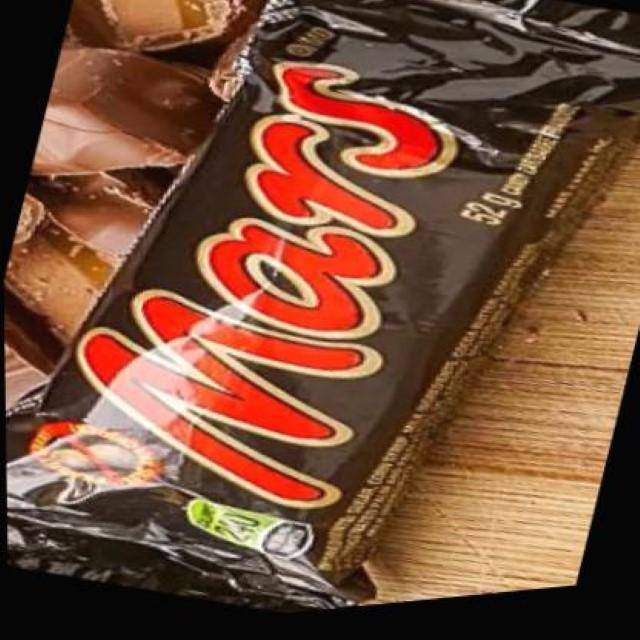mars_chocolate: (91, 53, 592, 550)
